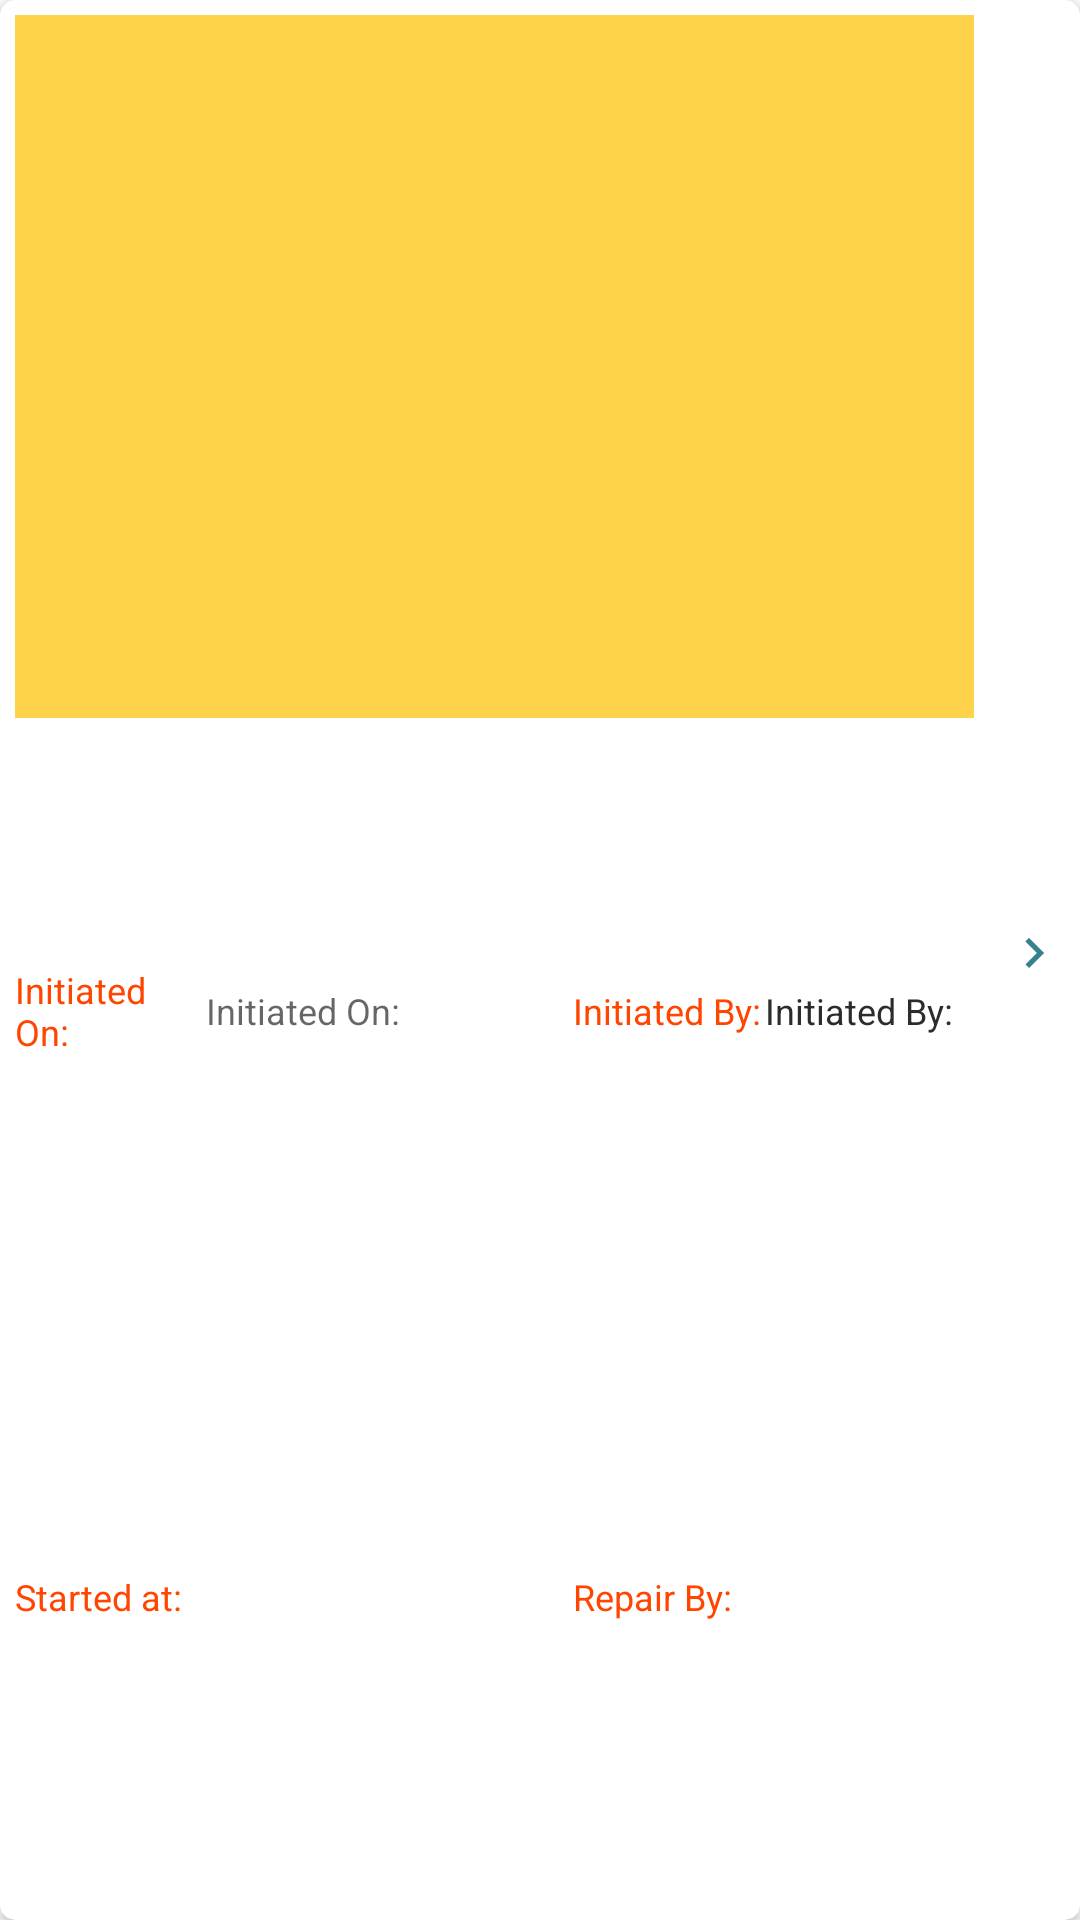

Where icons sit on this 1080w x 1920h app screen, as bbox=[x1, y1, x2, y2]:
right: bbox=[1025, 938, 1044, 968]
